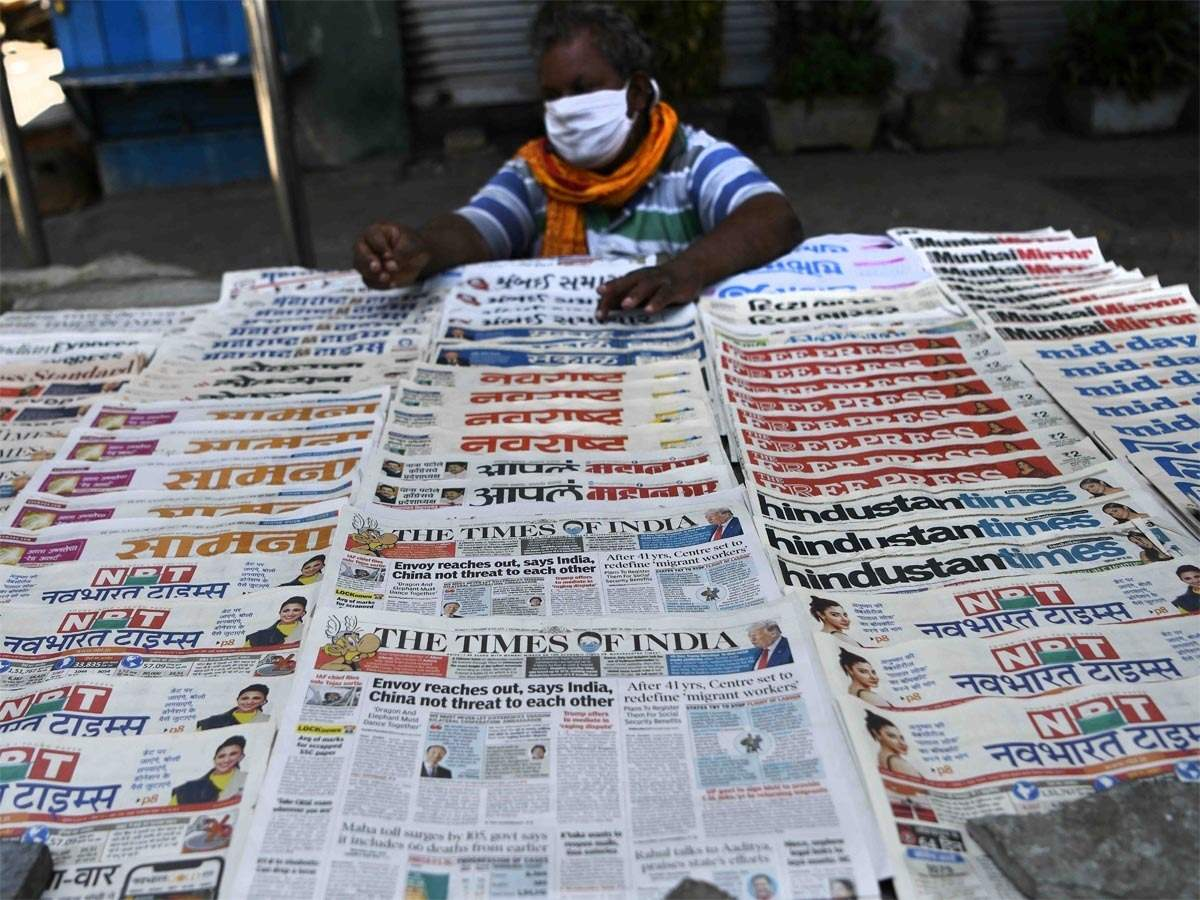news_paper: (220, 594, 915, 900), (728, 536, 1200, 896), (671, 346, 1200, 661), (1, 537, 376, 900), (265, 475, 838, 670), (315, 369, 772, 592), (660, 188, 1044, 444), (22, 247, 486, 414), (405, 226, 740, 441), (873, 202, 1200, 394), (104, 313, 443, 461), (5, 460, 370, 578), (3, 423, 381, 495), (1, 381, 438, 438), (362, 495, 376, 496)
